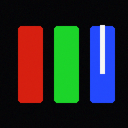4 line_v: (100, 25, 104, 73)
